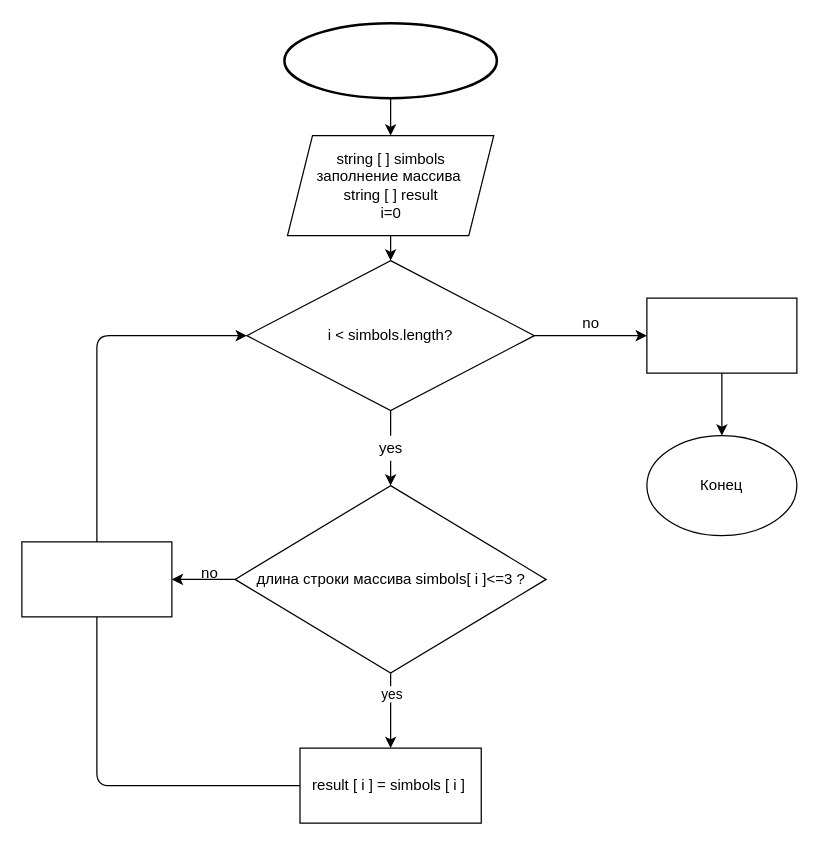
Some shapes in this 819 by 845 pixel diagram are drawn without their labels. Here are the shapes that lost their labels. From the top down, the box of each, then its label:
(282, 21, 498, 99): Начало
(646, 297, 797, 373): Вывод массива result [ i ]
(21, 541, 172, 617): i ++
